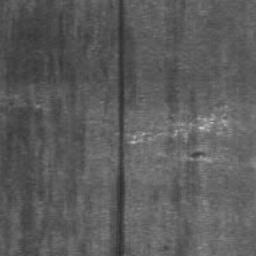Scratches: (110, 0, 126, 256)
